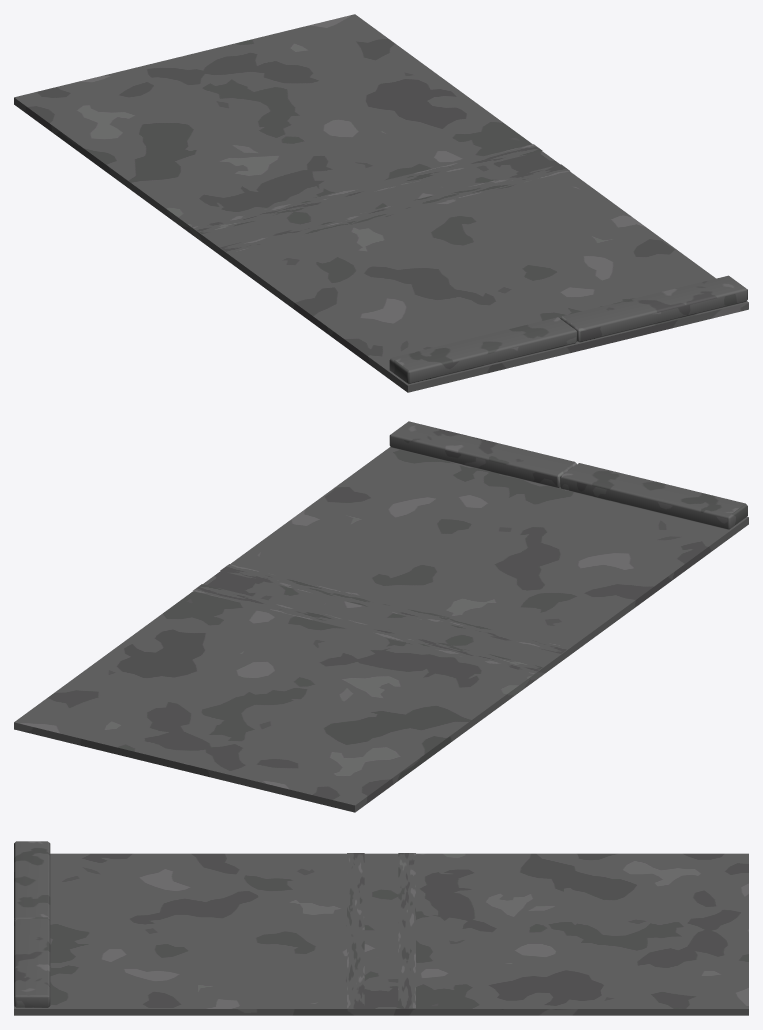
The model's file is SM_RoadSpline_02.obj.
The picture shows the model from 3 angles, top to bottom: view 1: azimuth 30°, elevation 25°; view 2: azimuth 150°, elevation 25°; view 3: azimuth 270°, elevation 25°; orthographic projection. The views are drawn at different scales.
Parts seen in each view (by area): view 1: SM_RoadSpline_02_mi_RoadExterior_Concrete_01, SM_RoadSpline_02_mi_RoadExterior_Concrete_02, SM_RoadSpline_02_mi_SchoolWalls_01; view 2: SM_RoadSpline_02_mi_RoadExterior_Concrete_01, SM_RoadSpline_02_mi_RoadExterior_Concrete_02, SM_RoadSpline_02_mi_SchoolWalls_01; view 3: SM_RoadSpline_02_mi_RoadExterior_Concrete_01, SM_RoadSpline_02_mi_RoadExterior_Concrete_02, SM_RoadSpline_02_mi_SchoolWalls_01.
Part boxes in pixels (x1,y1,x2,y2): SM_RoadSpline_02_mi_RoadExterior_Concrete_01: (14,14,748,392); SM_RoadSpline_02_mi_RoadExterior_Concrete_02: (389,275,747,384); SM_RoadSpline_02_mi_SchoolWalls_01: (193,144,569,254); SM_RoadSpline_02_mi_RoadExterior_Concrete_01: (14,447,748,812); SM_RoadSpline_02_mi_RoadExterior_Concrete_02: (389,421,747,529); SM_RoadSpline_02_mi_SchoolWalls_01: (193,564,570,673); SM_RoadSpline_02_mi_RoadExterior_Concrete_01: (14,853,748,1015); SM_RoadSpline_02_mi_RoadExterior_Concrete_02: (14,841,50,1007); SM_RoadSpline_02_mi_SchoolWalls_01: (347,853,415,1008).
Size of the model in its own units: 5 by 0.2969 by 10.
